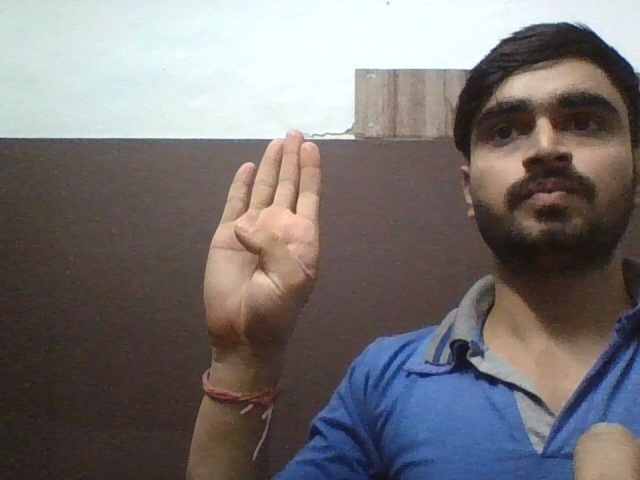B: (191, 132, 334, 354)
